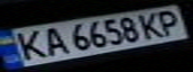5: (103, 16, 127, 46)
6: (66, 20, 90, 52), (87, 18, 109, 50)
8: (118, 15, 142, 43)
A: (36, 25, 69, 56)
K: (6, 28, 51, 62), (133, 10, 166, 39)
P: (151, 8, 187, 36)
